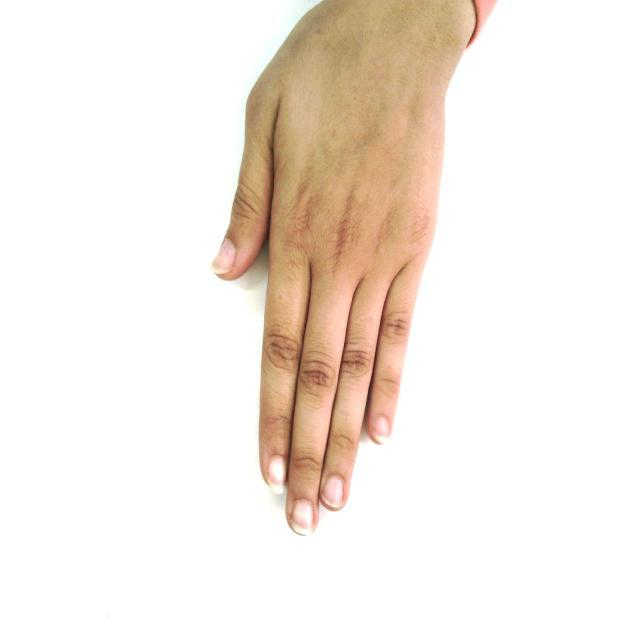Fingernail: (292, 500, 313, 535), (211, 239, 234, 270), (268, 458, 287, 494), (322, 477, 343, 507), (374, 417, 390, 443)
